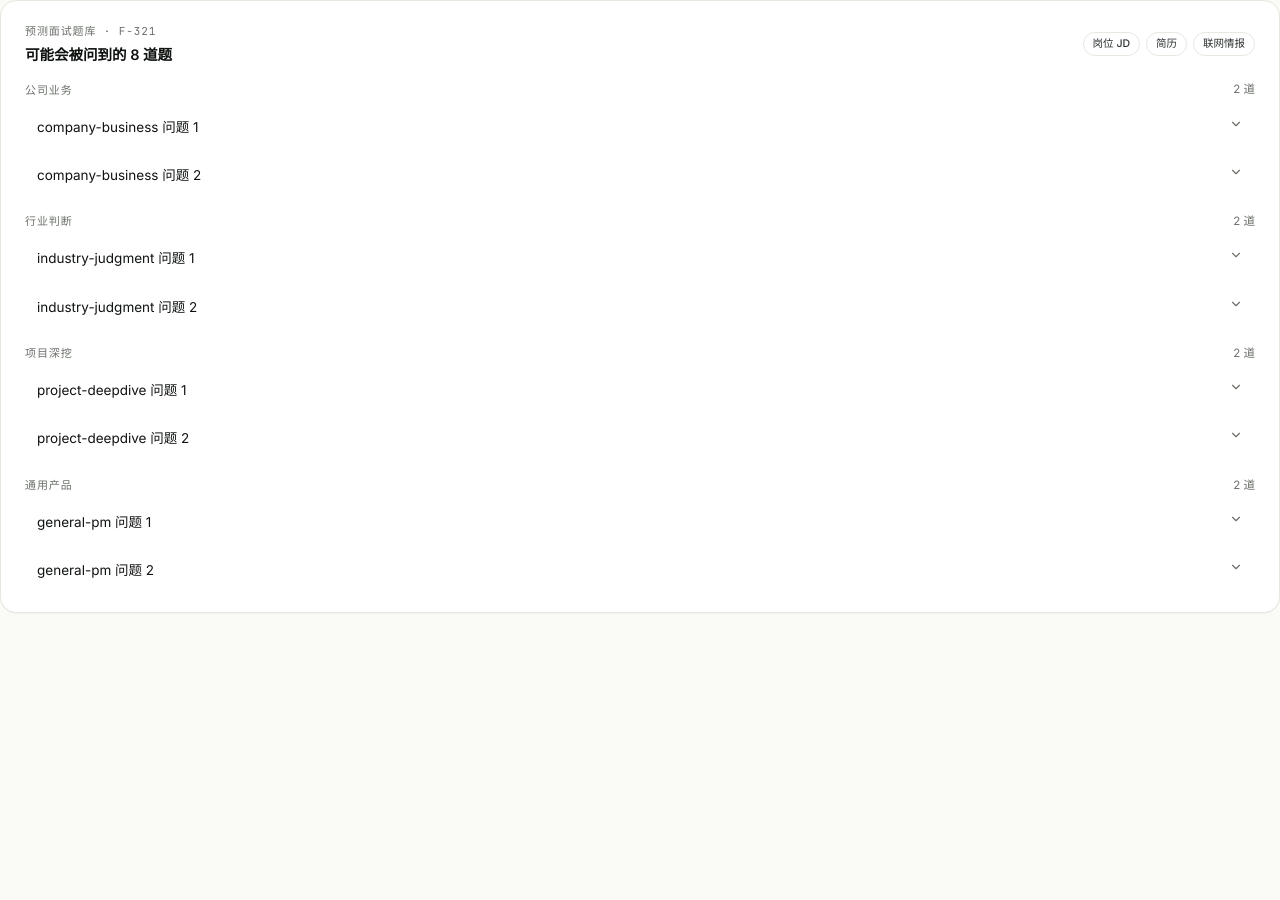
Test: PredictedQuestionList › toggles individual questions independently
Click the button "company-business 问题 1".
click(118, 126)  # box [37,116,1243,137]
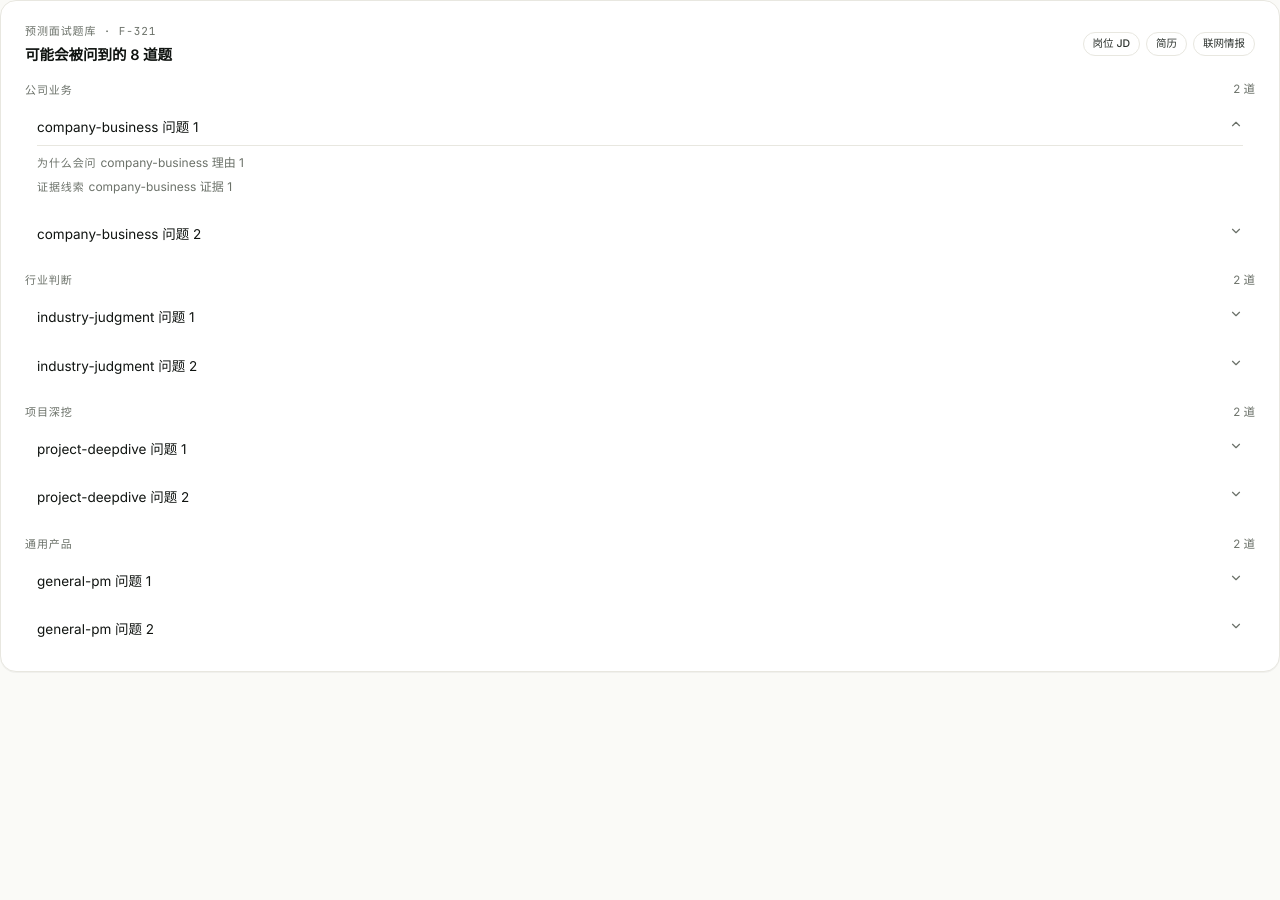
Click the button "company-business 问题 2".
click(119, 234)  # box [37,224,1243,244]
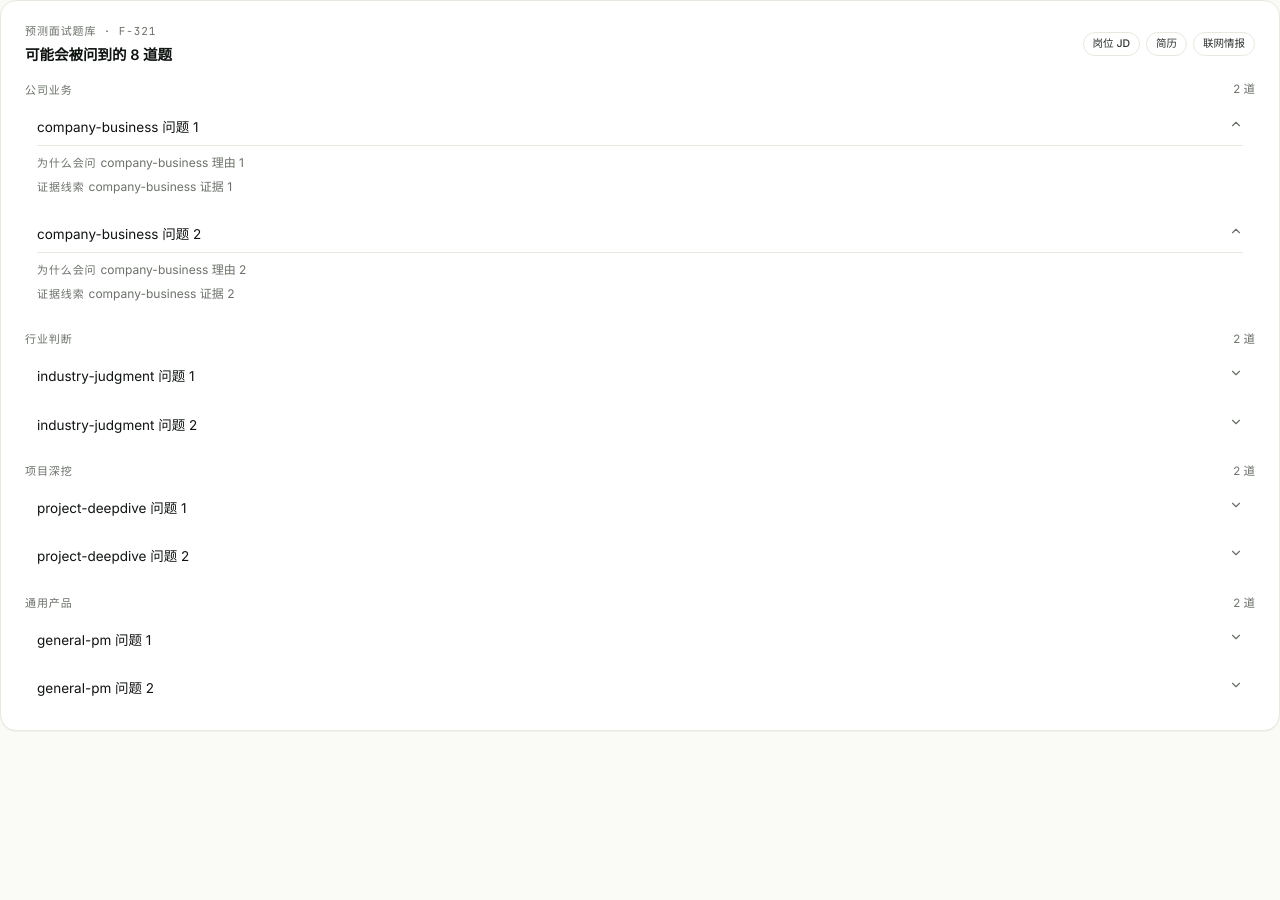
Check: the number of elements with test id "predicted-question-detail" is 2, box [37,145,1243,196]; [37,252,1243,303]
Click the button "company-business 问题 1".
click(118, 126)  # box [37,116,1243,137]
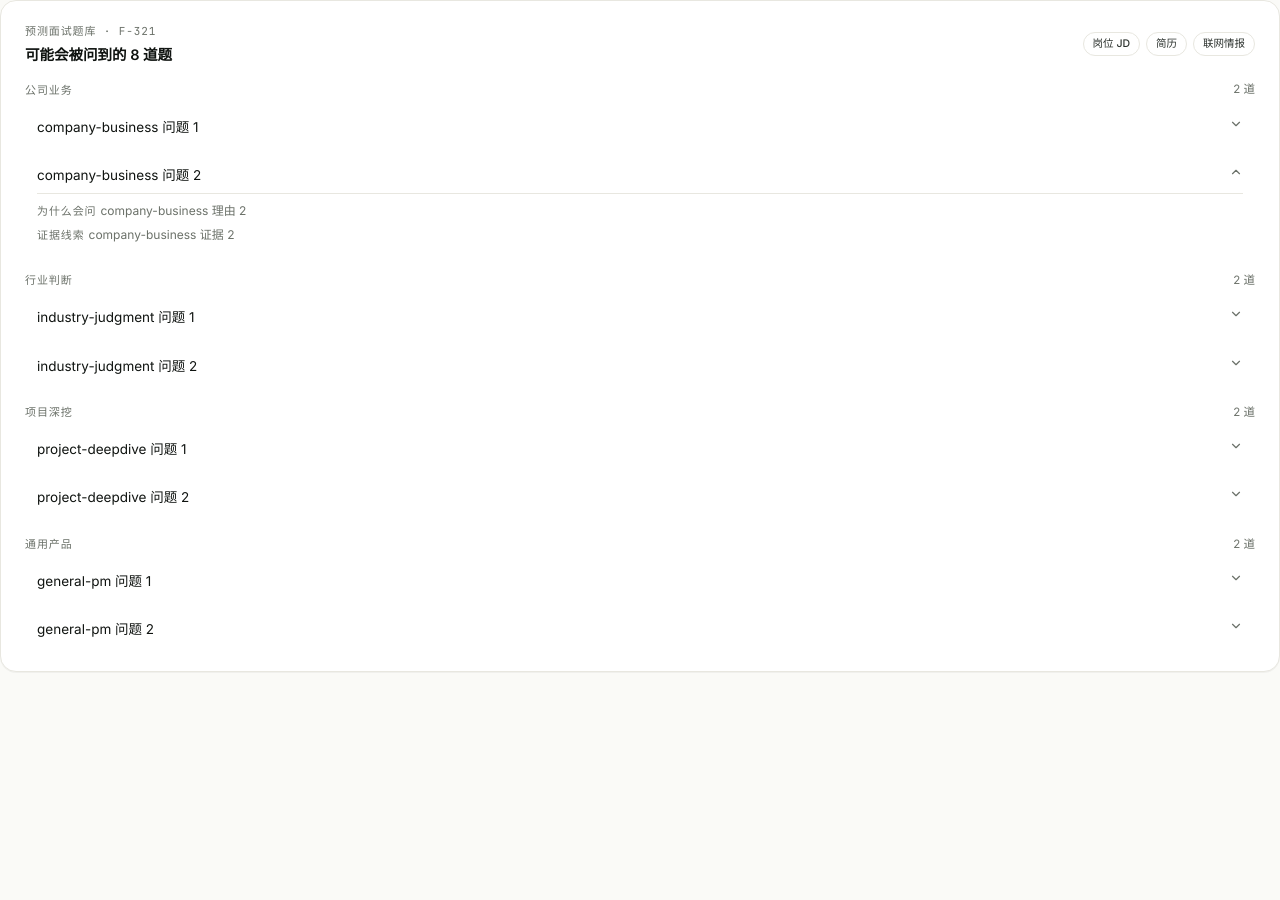
Check: the number of elements with test id "predicted-question-detail" is 1, box [37,193,1243,244]
